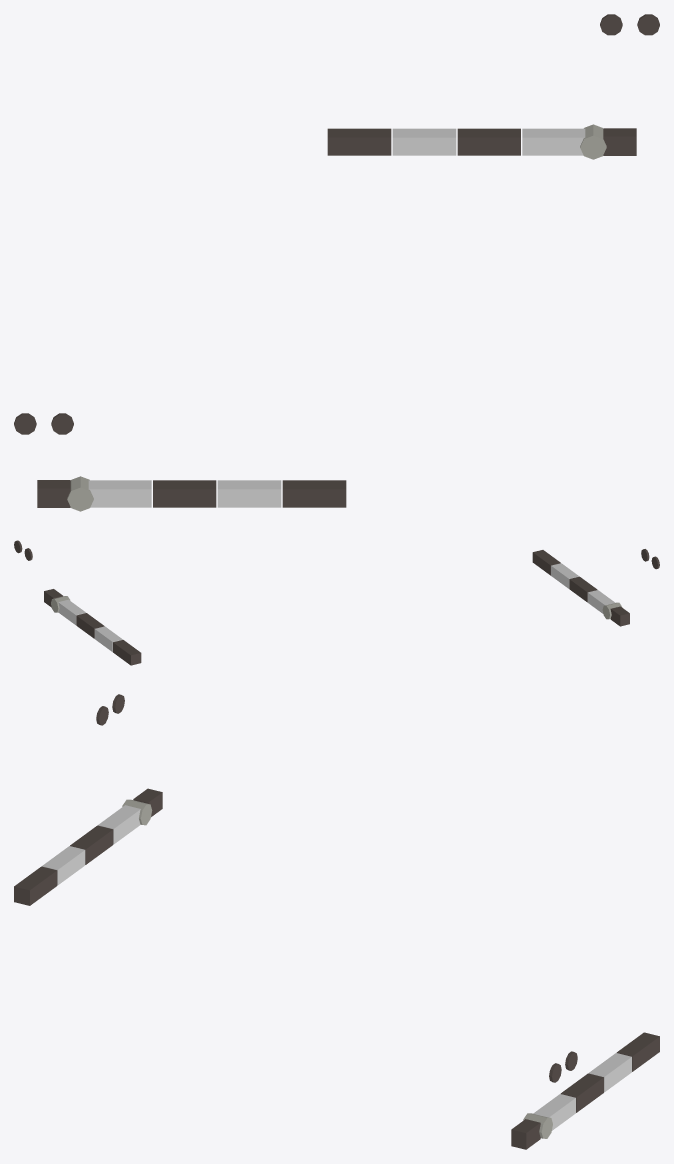
File: SM_PasoNivel_60E_v3_Militar_LOD1.fbx
3 views of the same model, one above another, from view 1: azimuth 30°, elevation 25°; view 2: azimuth 150°, elevation 25°; view 3: azimuth 270°, elevation 25° (orthographic). The views are drawn at different scales.
Parts seen in each view (by area): view 1: Barrera_2, Barrera_1, Luces_B, Luces_A; view 2: Barrera_2, Barrera_1; view 3: Barrera_1, Barrera_2.
Boxes of the visible parts, left/top/right/bottom form: Barrera_2: left=37, top=476, right=346, bottom=511; Barrera_1: left=327, top=124, right=636, bottom=159; Luces_B: left=51, top=14, right=659, bottom=434; Luces_A: left=14, top=14, right=622, bottom=434; Barrera_2: left=532, top=550, right=629, bottom=626; Barrera_1: left=44, top=589, right=141, bottom=665; Barrera_1: left=511, top=1032, right=659, bottom=1149; Barrera_2: left=14, top=788, right=162, bottom=905.
Size of what is drawn, in the model's own units: 15.52 by 1.91 by 11.25.
